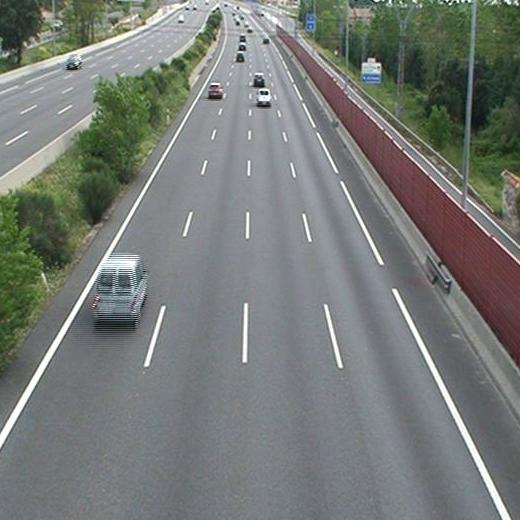car: (258, 90, 272, 106), (208, 83, 222, 97), (253, 74, 265, 85), (237, 42, 247, 50), (235, 53, 245, 61)
van: (95, 255, 145, 319)
